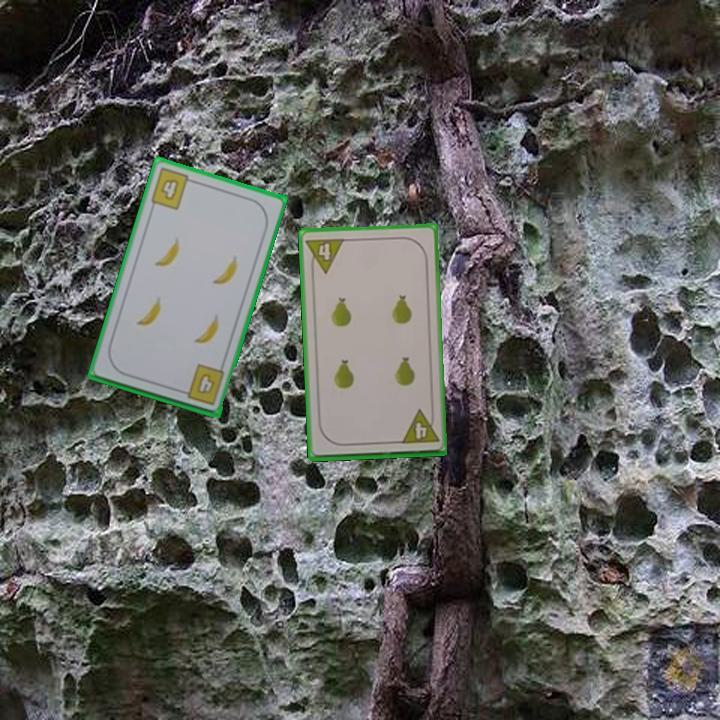4b: (147, 164, 198, 213), (176, 361, 227, 408)
4p: (303, 234, 347, 276), (397, 406, 442, 447)
